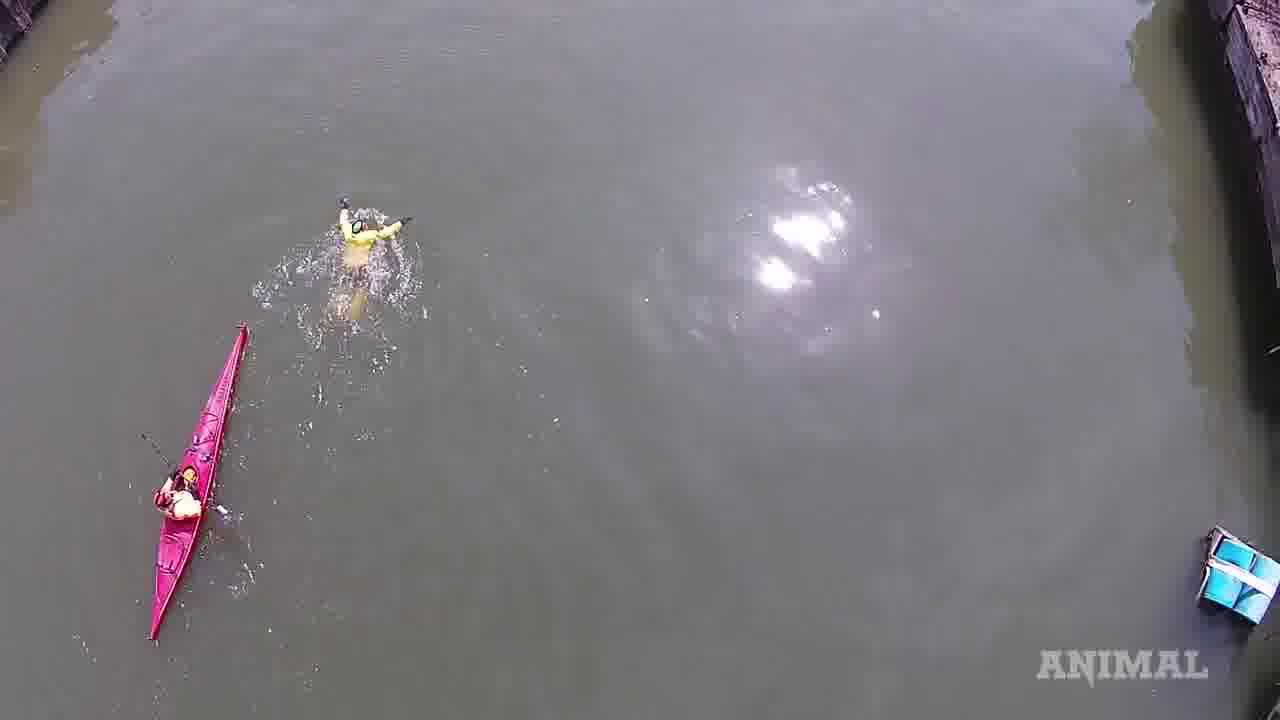swimmer: (331, 176, 428, 305)
